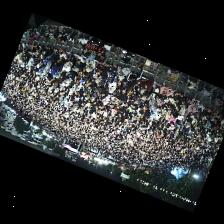person: (126, 63, 144, 83), (61, 53, 74, 73), (139, 78, 153, 92), (66, 65, 77, 82), (40, 52, 53, 66), (96, 61, 109, 75), (160, 85, 173, 98), (46, 64, 57, 78), (117, 66, 129, 78), (172, 91, 183, 104), (75, 55, 86, 68), (151, 108, 160, 123), (94, 70, 106, 81), (82, 67, 93, 79), (108, 78, 117, 92), (58, 47, 67, 61), (52, 66, 61, 80), (85, 58, 95, 70), (131, 83, 140, 96), (122, 81, 131, 94), (109, 64, 117, 78), (177, 103, 185, 117), (210, 109, 218, 123), (92, 85, 102, 96), (43, 46, 53, 57), (165, 94, 174, 106), (148, 91, 157, 103), (43, 58, 51, 71), (96, 77, 106, 87), (164, 103, 174, 113), (116, 75, 125, 86), (203, 108, 212, 119), (196, 101, 203, 115), (149, 100, 156, 113), (168, 113, 175, 126), (106, 67, 112, 82), (118, 94, 127, 104), (187, 104, 195, 115), (132, 99, 140, 109), (26, 57, 33, 68), (138, 88, 145, 99), (161, 107, 168, 118), (157, 92, 164, 103), (103, 94, 109, 104), (24, 44, 31, 52), (153, 83, 160, 91), (174, 102, 180, 110), (98, 39, 105, 45)
